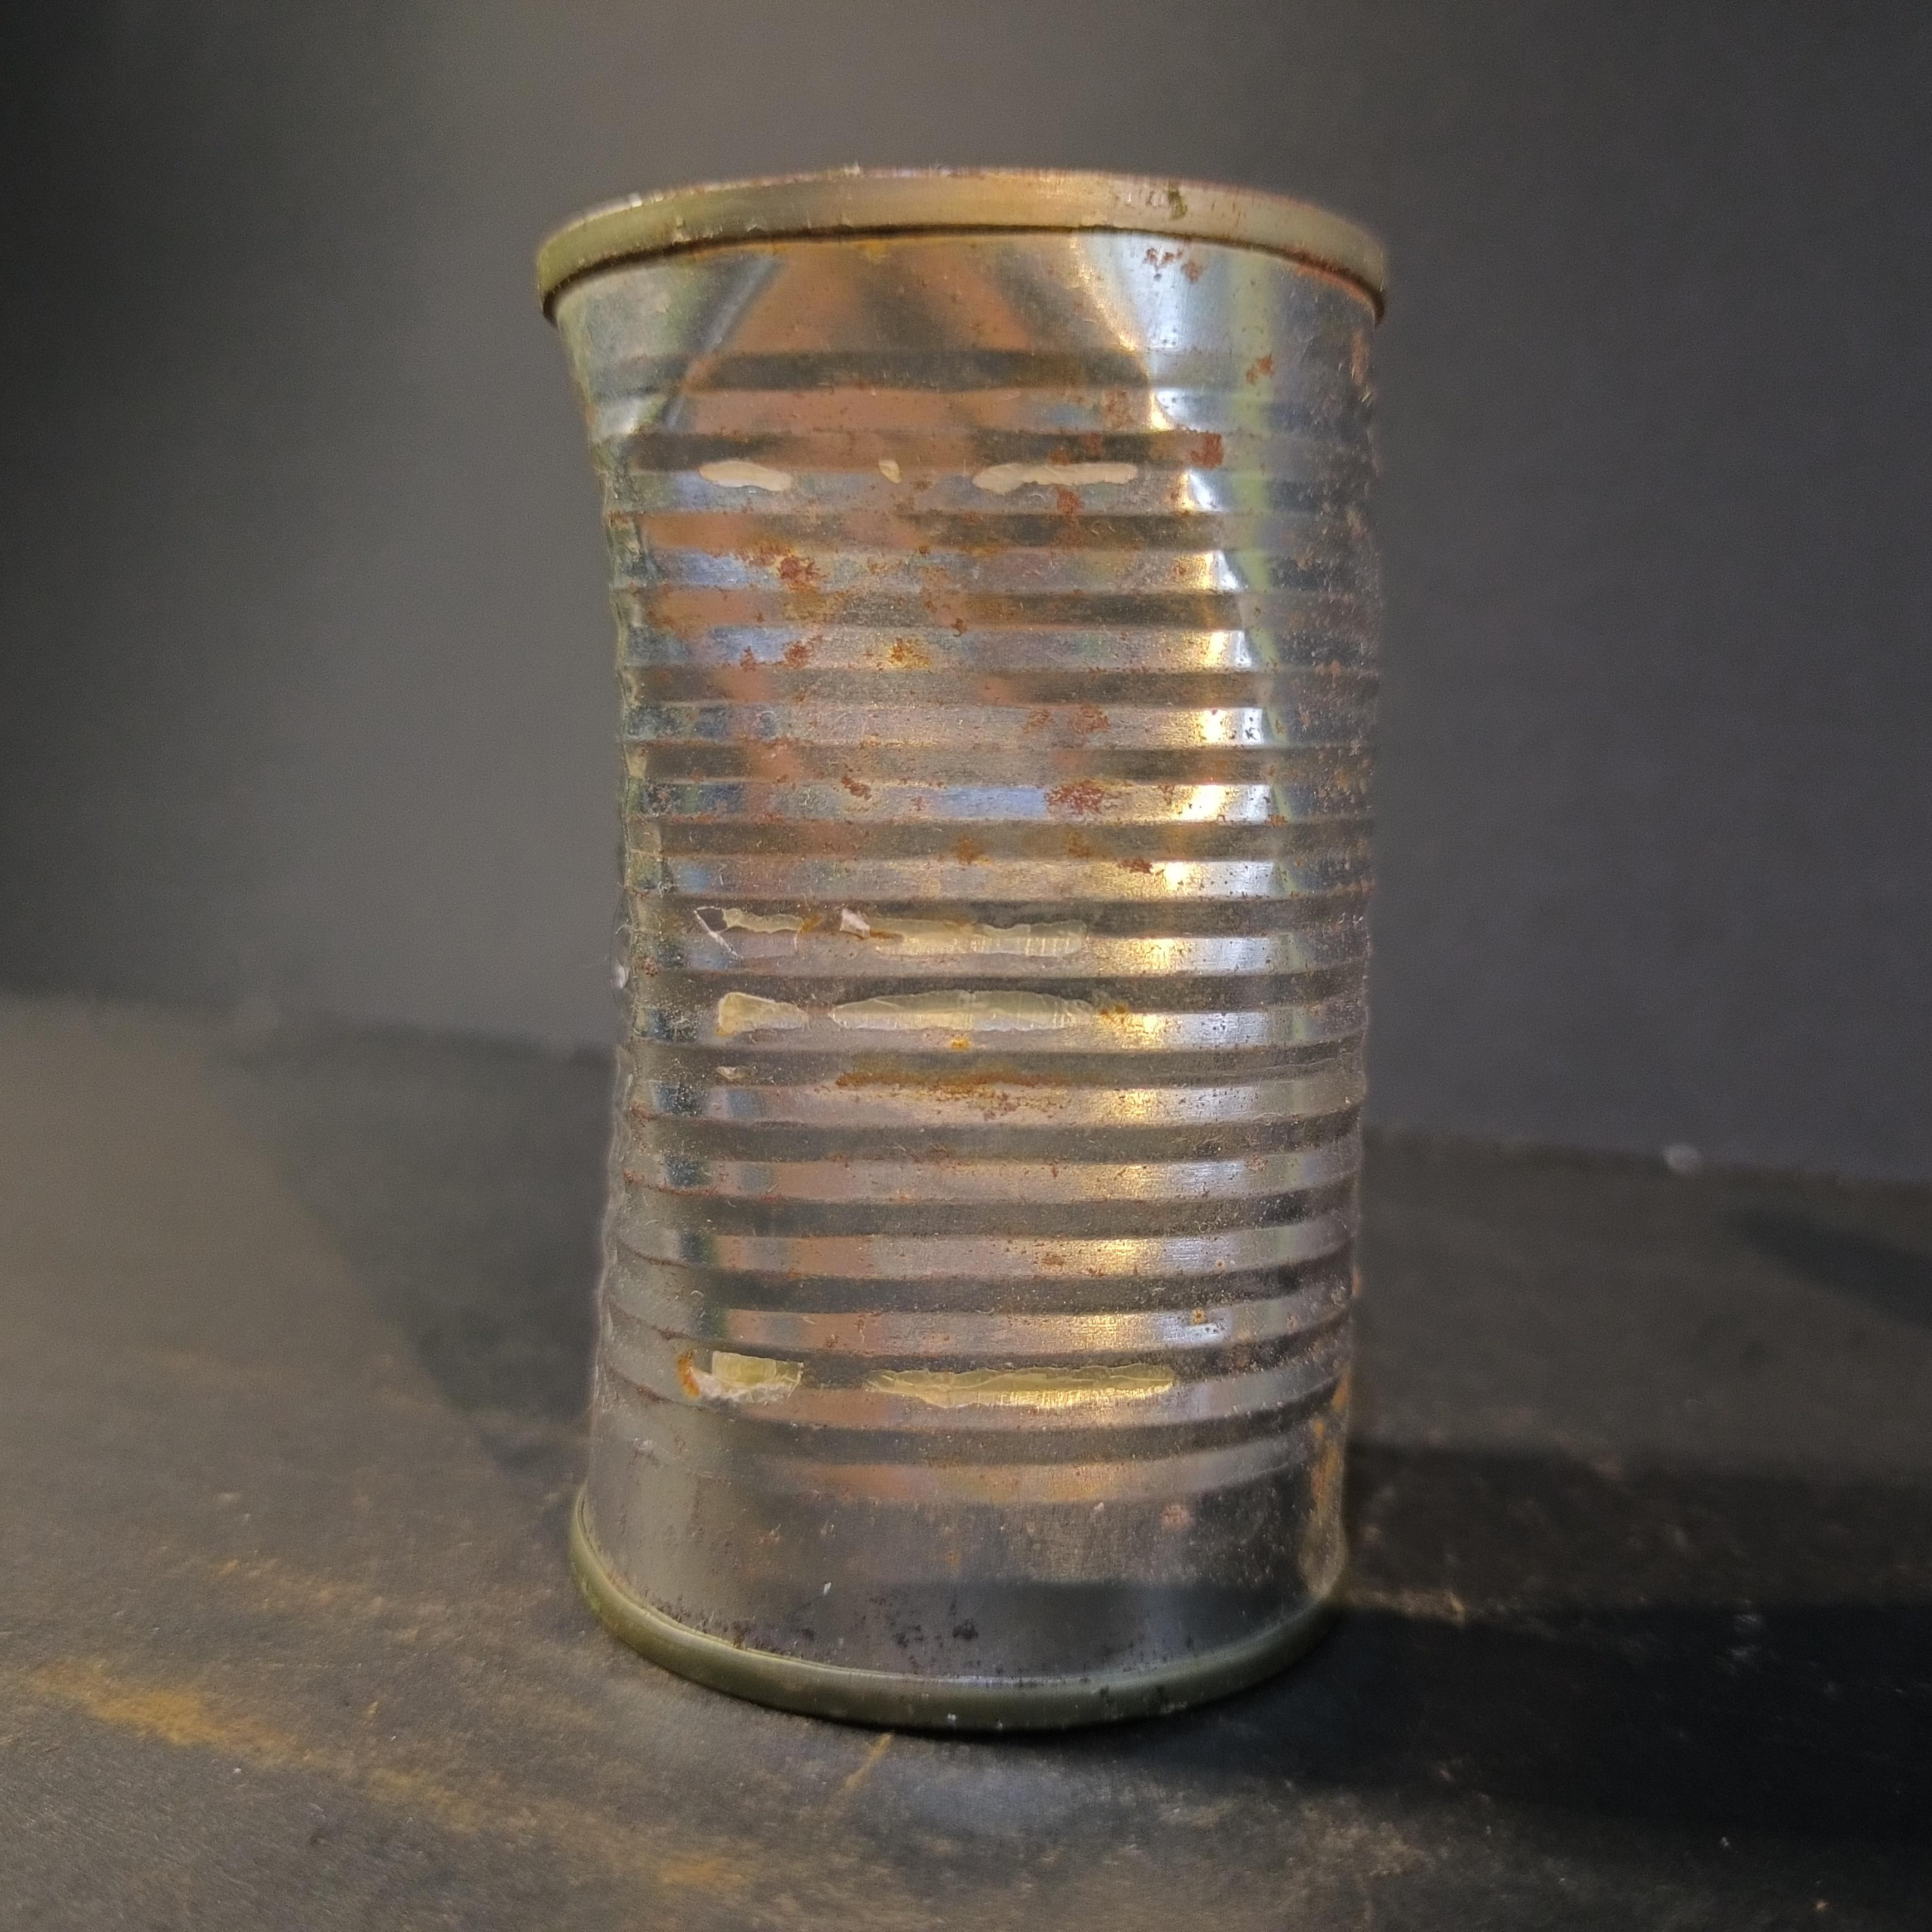Dented: (481, 127, 1408, 1711)
